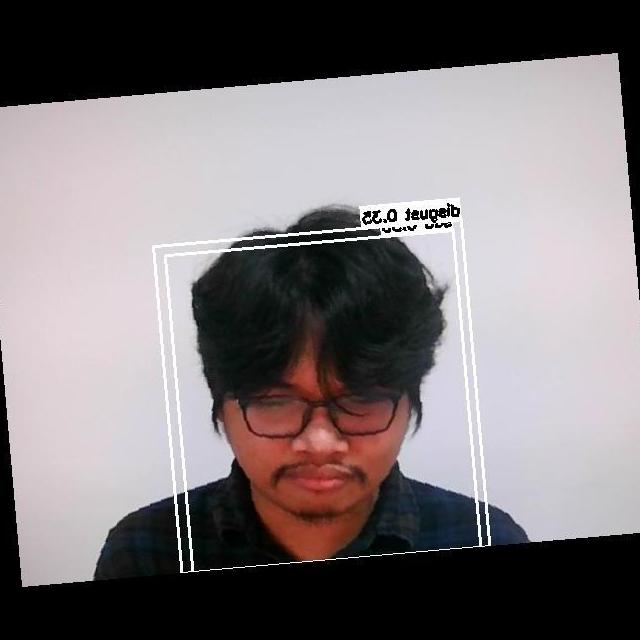Sad: (230, 338, 426, 516)
